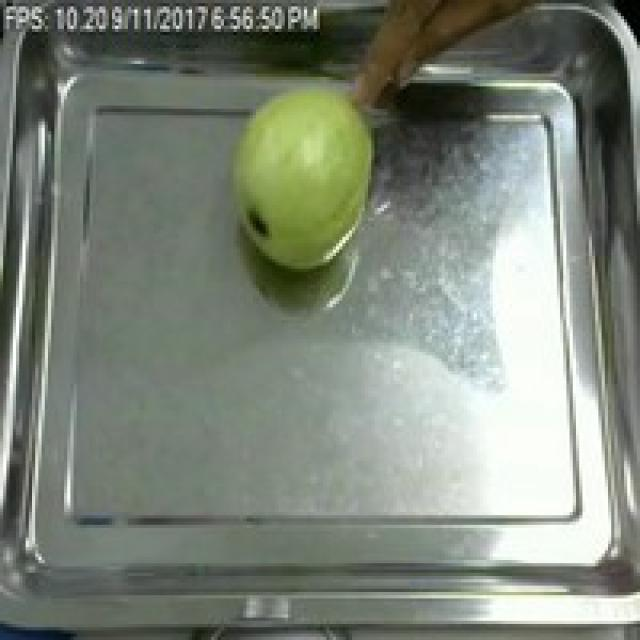Fruit: (218, 64, 390, 278)
